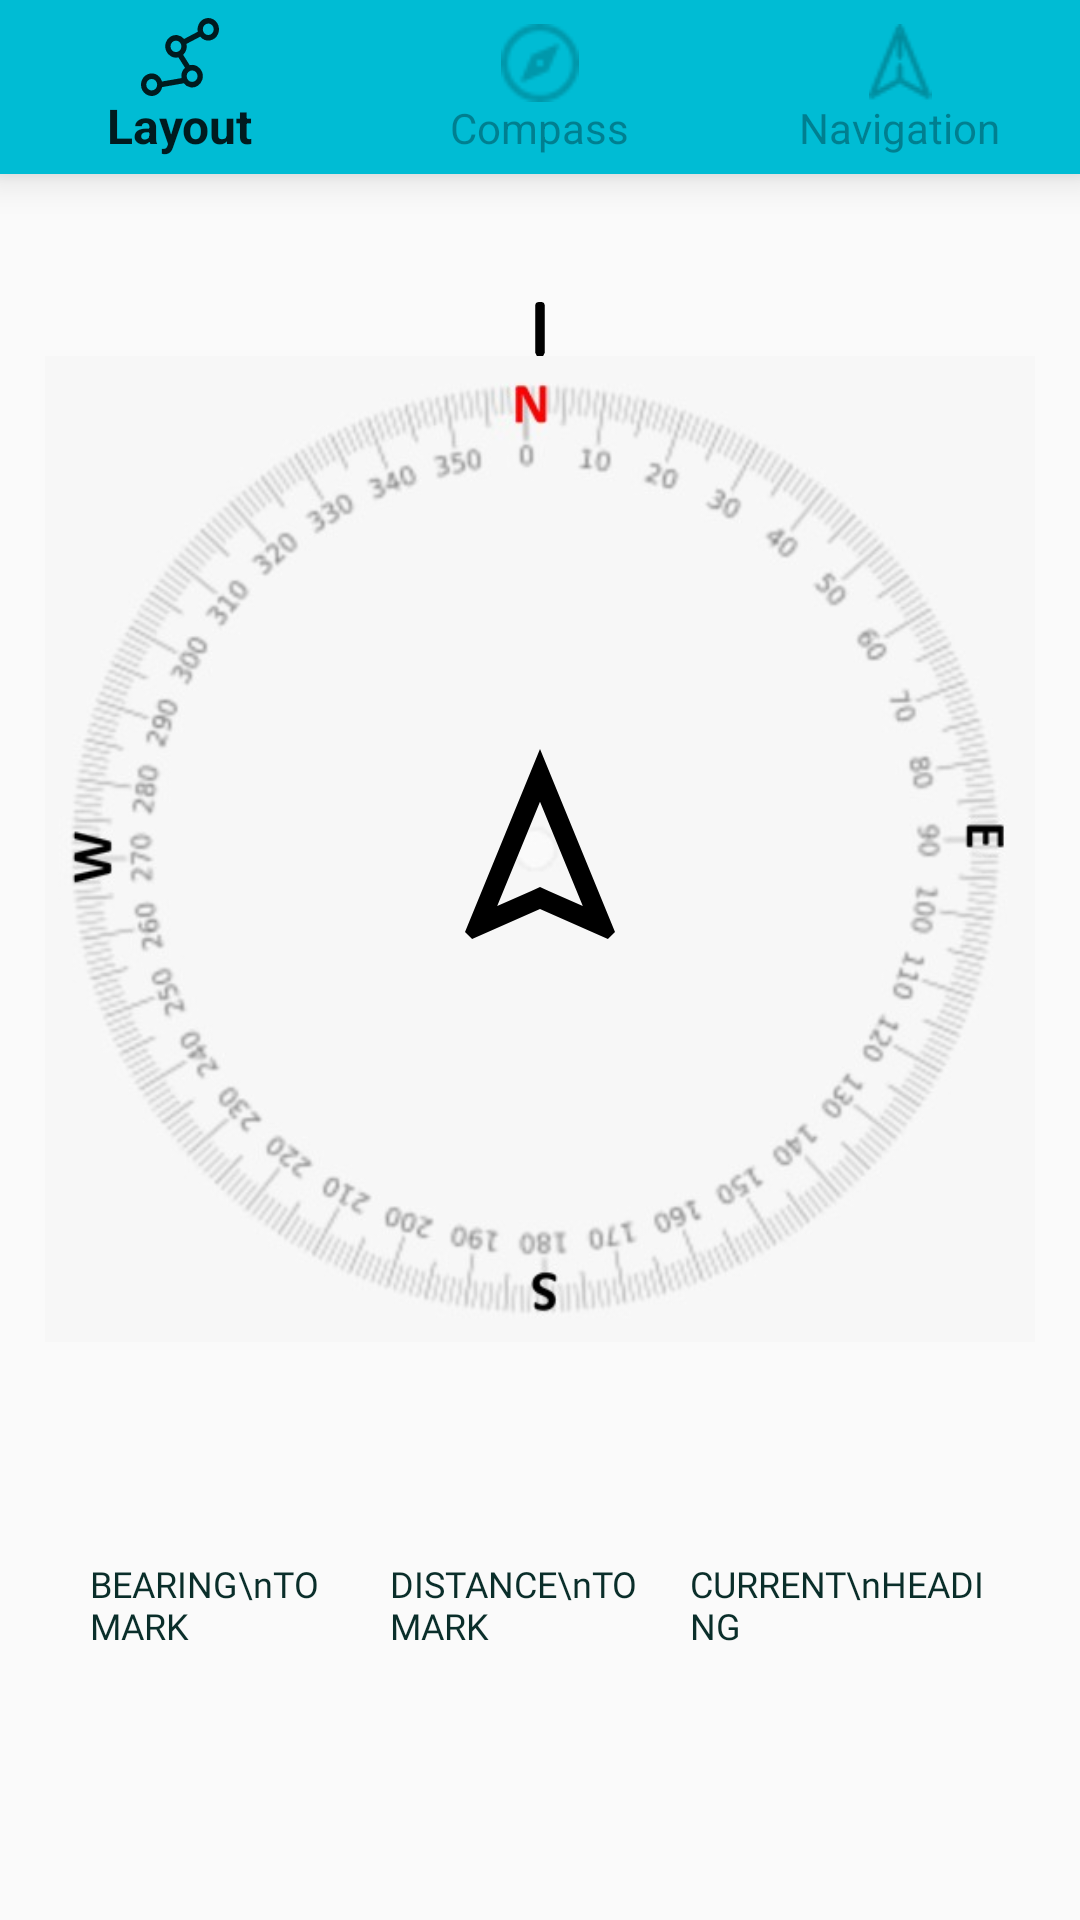

Icon click points for this 1080px×1920px phone screenshot, format (x=x, y=y):
line: (x=540, y=329)
navigation arrow: (x=540, y=844)
